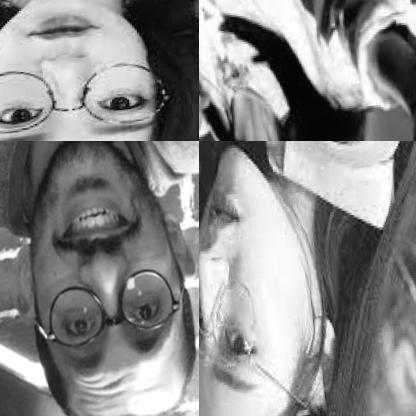glasses: (199, 236, 325, 415), (0, 50, 198, 140), (37, 267, 191, 352)
hands: (358, 16, 415, 140), (199, 80, 224, 140)
